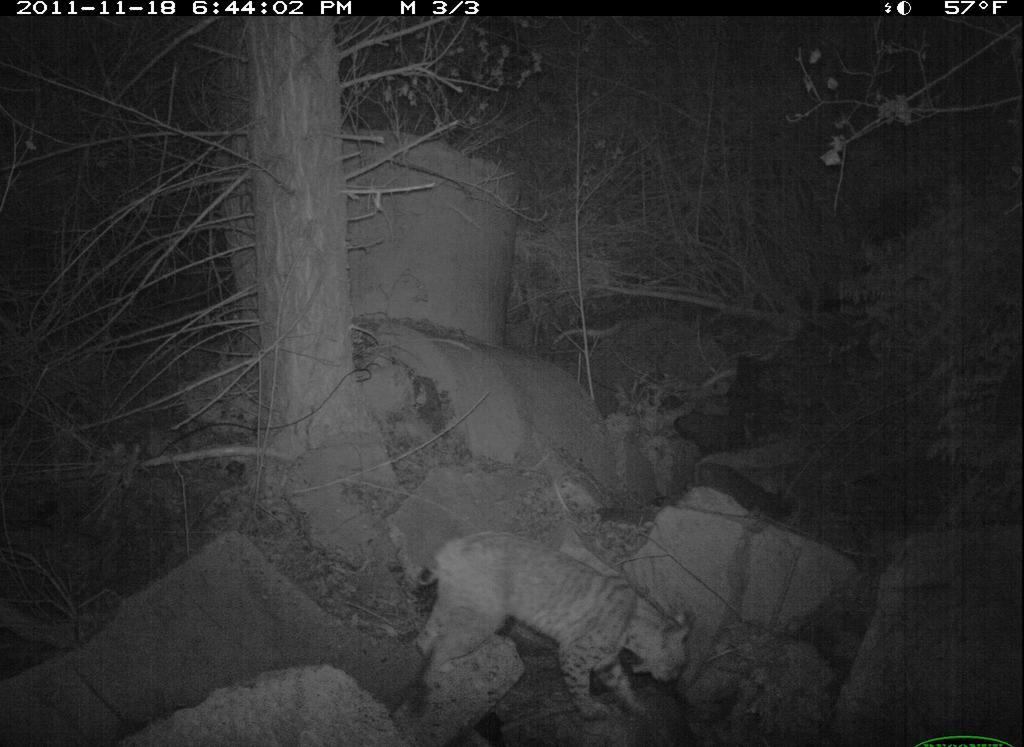bobcat: (406, 519, 705, 733)
